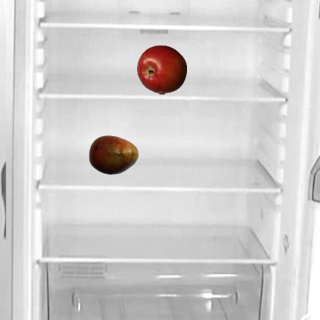Apple Braeburn: (136, 44, 186, 94)
Mango Red: (88, 129, 138, 179)
